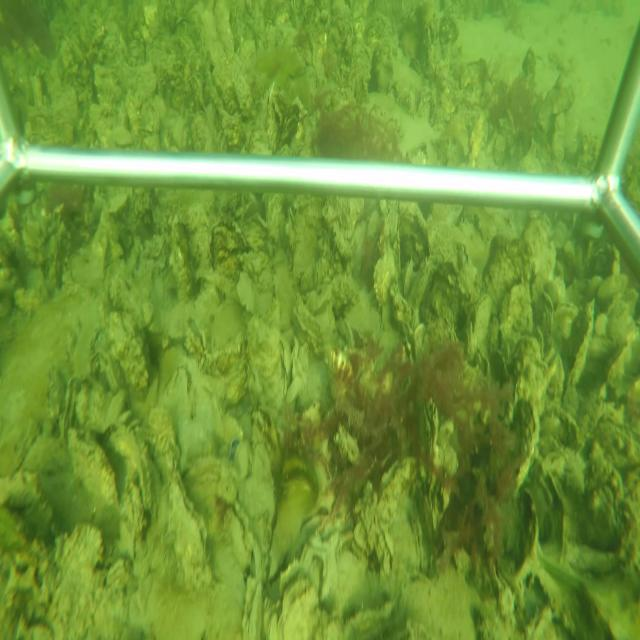Oyster-Closed: (169, 465, 213, 595), (247, 318, 288, 412), (563, 298, 596, 400), (264, 80, 280, 152), (422, 397, 439, 464)
Oyster-Indeterminate: (483, 223, 556, 313), (238, 445, 278, 576), (488, 397, 538, 499), (67, 430, 118, 504), (604, 345, 627, 380)
